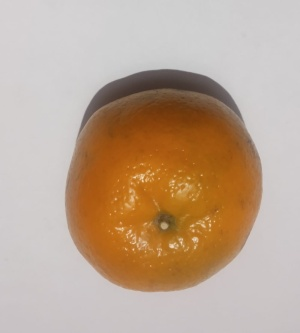BAD: (60, 84, 268, 296)
